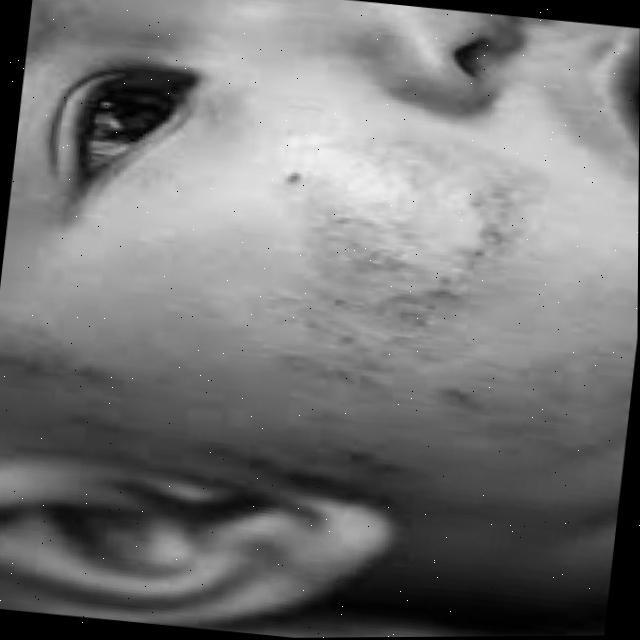Eczema: (235, 128, 639, 440)
